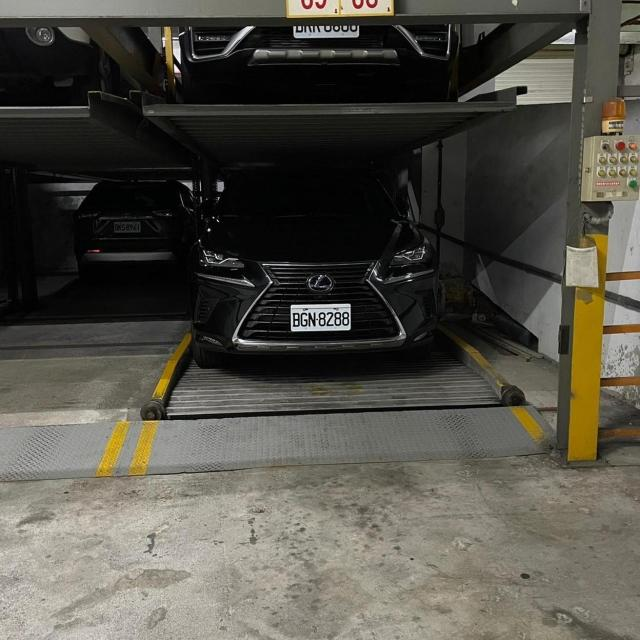W: (285, 303, 354, 336), (111, 218, 142, 234)
